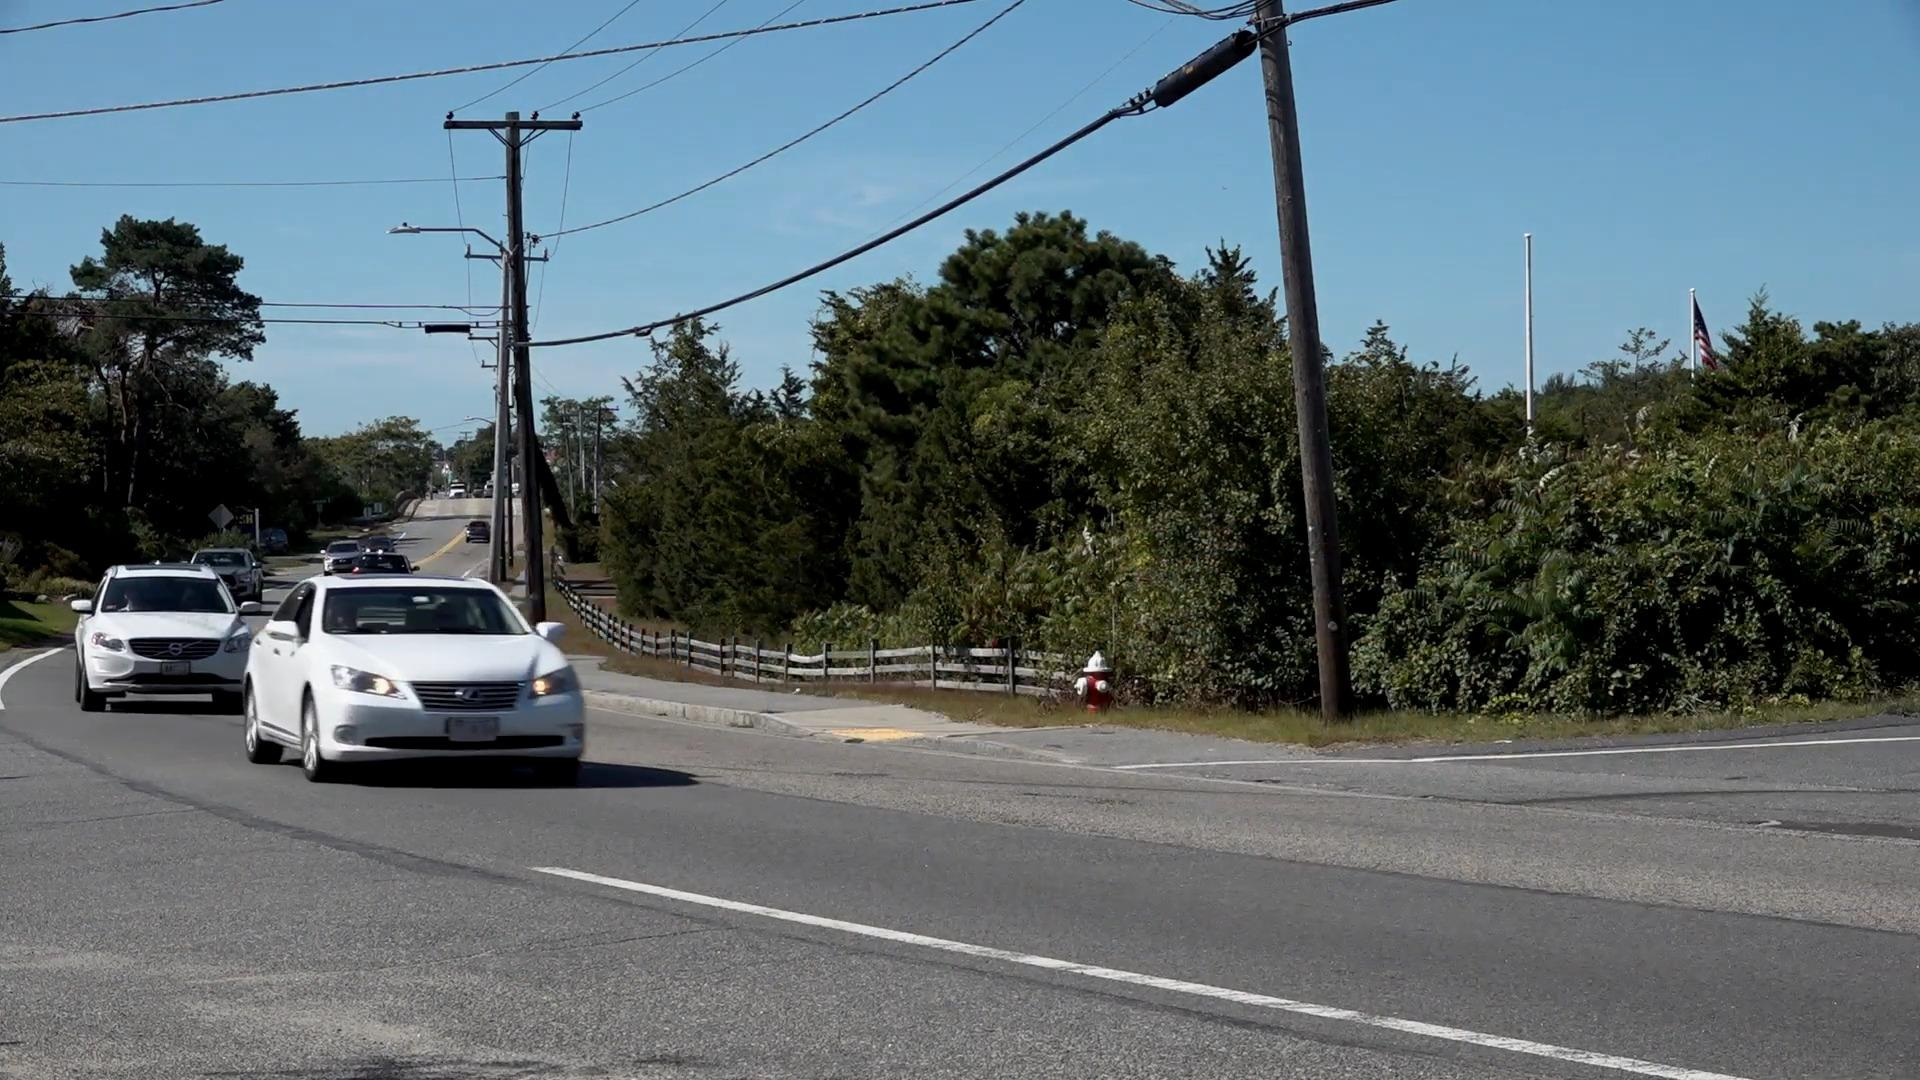sedans: (241, 564, 603, 786)
suv: (67, 554, 256, 711)
